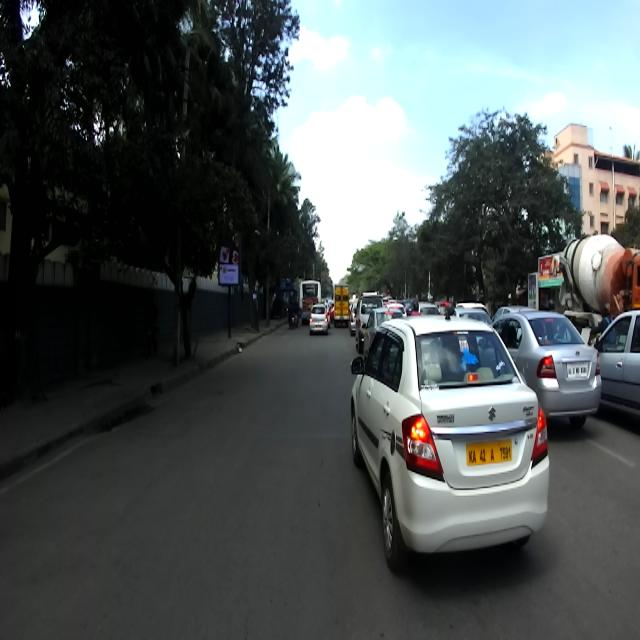car ahead at: (346, 314, 554, 578)
